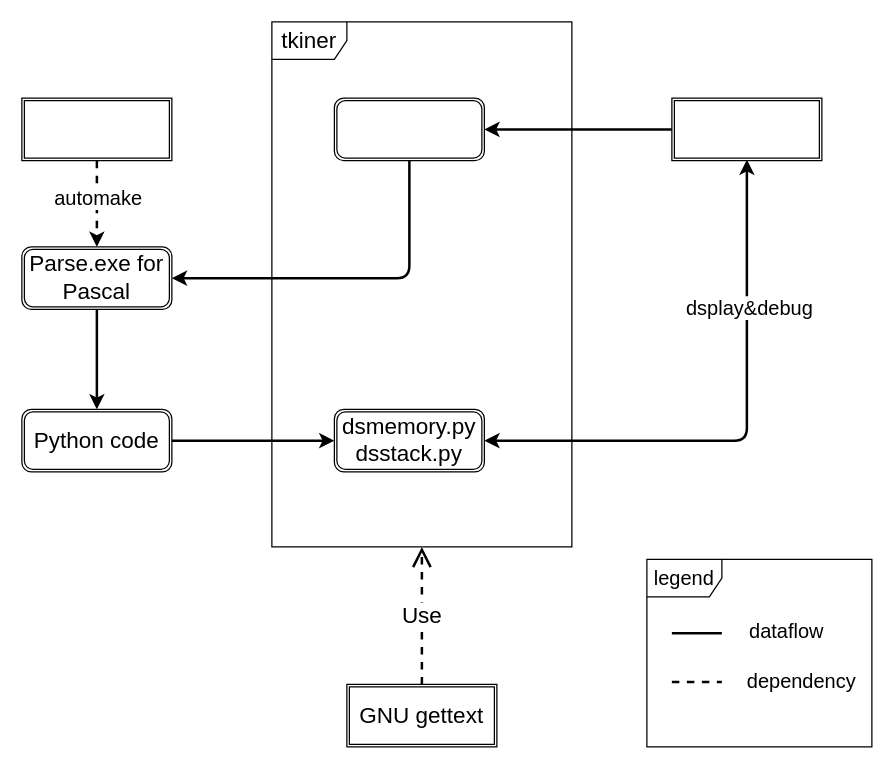
Some shapes in this 894 by 769 pixel diagram are drawn without their labels. Here are the shapes that lost their labels. From the top down, the centre of each, then its label:
point (96, 129): flex&GNU bison
point (408, 129): Pascal程序
point (746, 129): User
